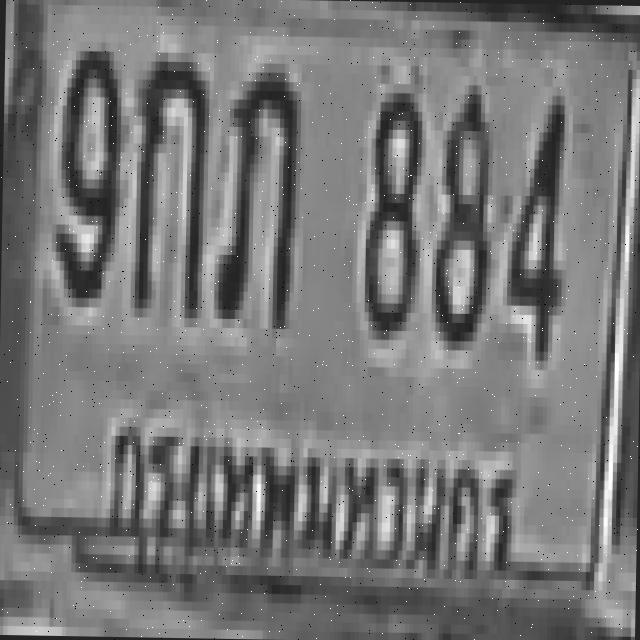10GorGai: (130, 43, 206, 309)
4: (503, 86, 562, 352)
41PhorSamPhao: (213, 63, 297, 320)
8: (430, 80, 490, 336), (359, 82, 418, 330)
9: (51, 41, 118, 298)
Bangkok: (101, 383, 524, 599)
